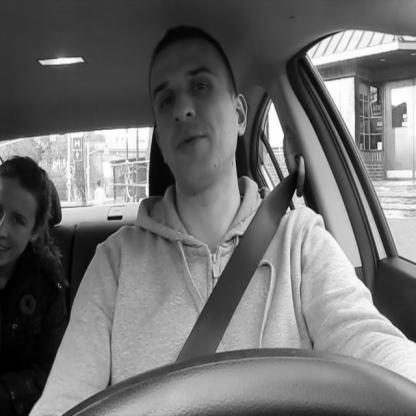seatbelt: (116, 14, 320, 362)
